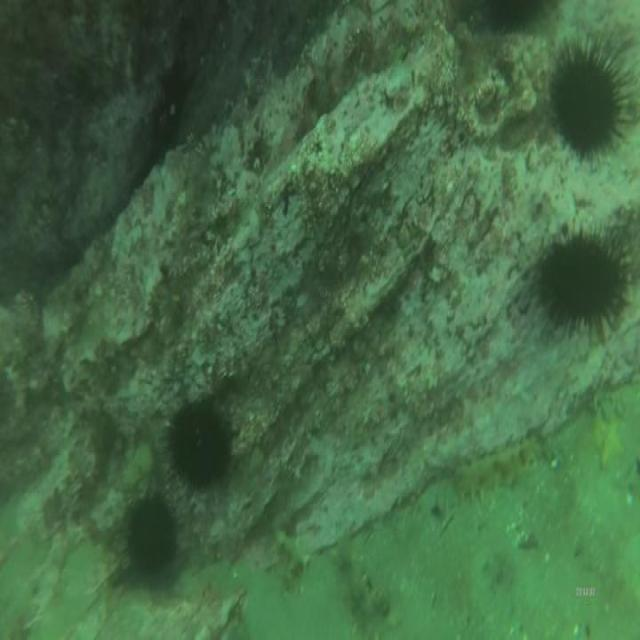echinus: (531, 208, 637, 352), (543, 36, 638, 177), (162, 394, 244, 504), (118, 479, 185, 591)
holothurian: (452, 433, 540, 496)
